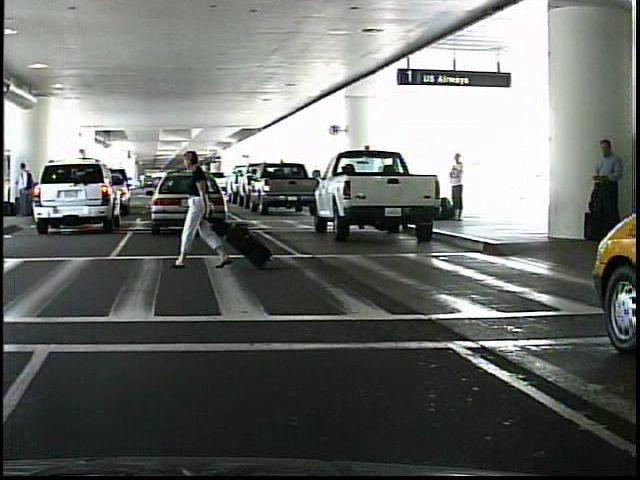person: (184, 151, 232, 272), (582, 135, 621, 248), (445, 152, 472, 223), (19, 161, 38, 222)
